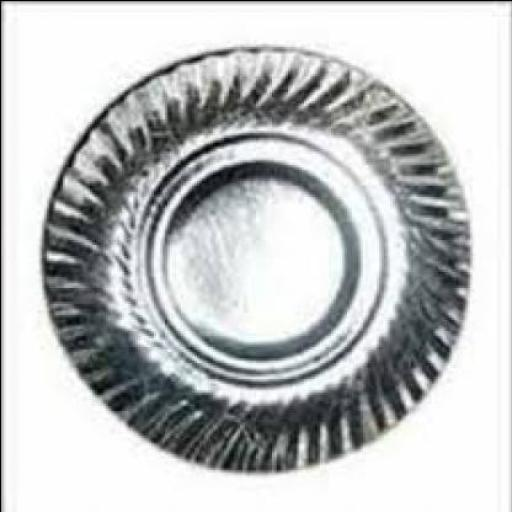metal: (36, 47, 469, 476)
